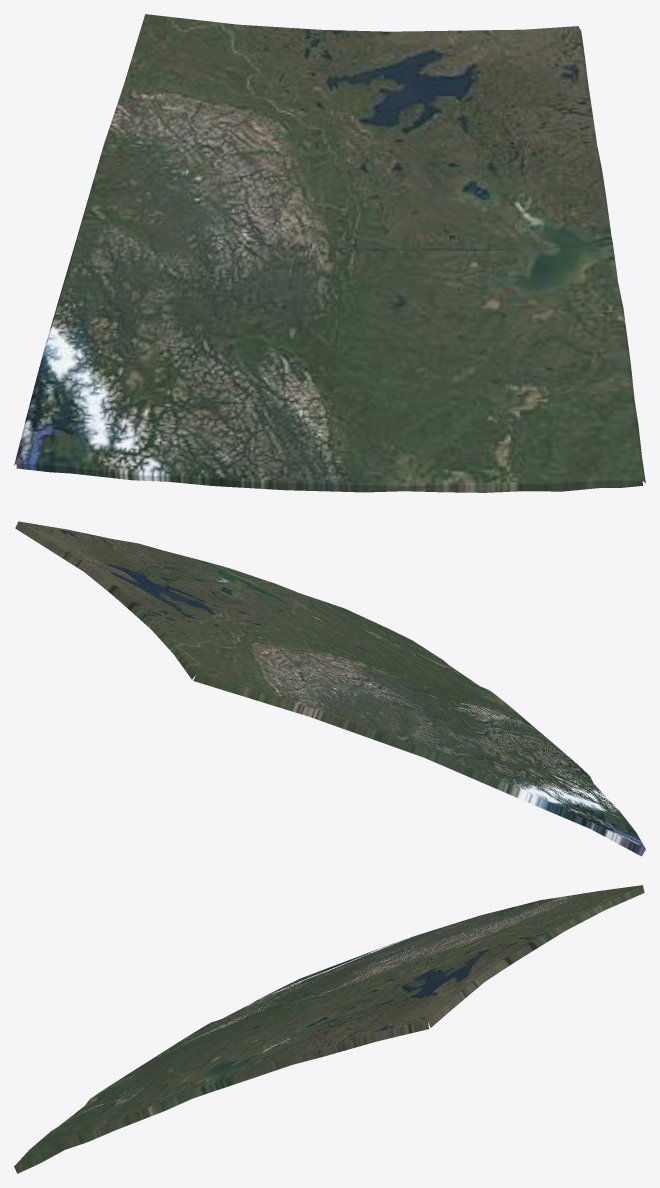
3 views of the same model, one above another, from view 1: azimuth 30°, elevation 25°; view 2: azimuth 150°, elevation 25°; view 3: azimuth 270°, elevation 25° (orthographic). The views are drawn at different scales.
Bounding box in the file's own units: 1591771 × 616910 × 1565529.
Materials: 1 (1 with a texture image).
